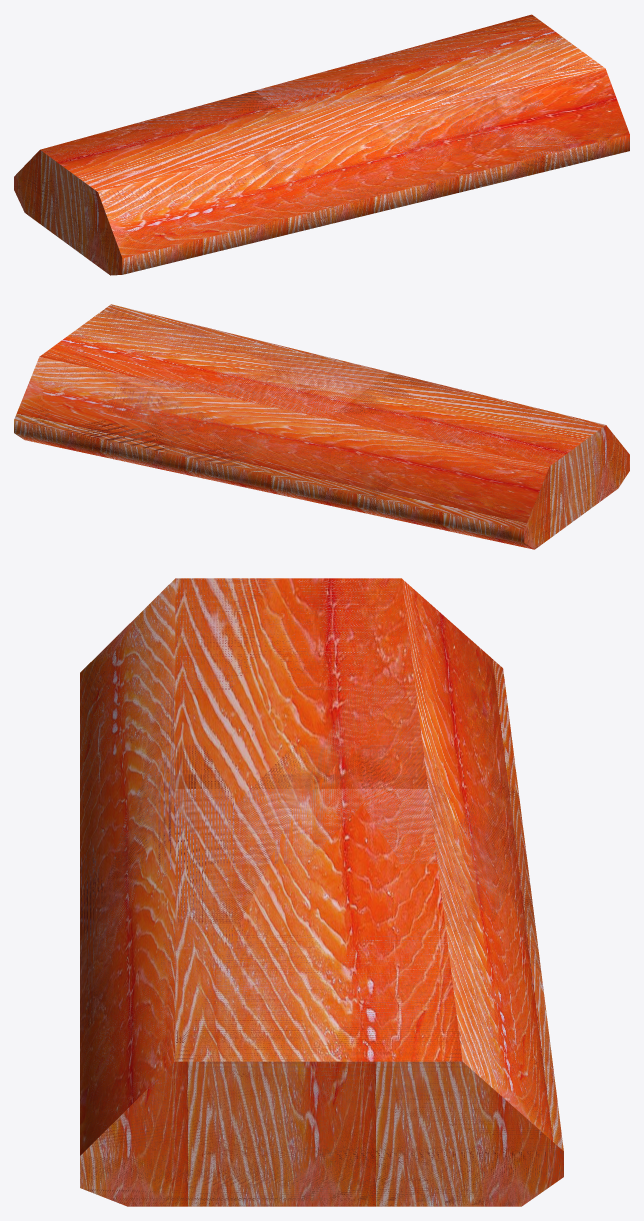
Rendered from salmon.dae.
The picture shows the model from 3 angles, top to bottom: view 1: azimuth 30°, elevation 25°; view 2: azimuth 150°, elevation 25°; view 3: azimuth 270°, elevation 25°; orthographic projection. The views are drawn at different scales.
Visible parts, largest first — view 1: Component_50; view 2: Component_50; view 3: Component_50.
Boxes of the visible parts, bbox=[...] form: Component_50: bbox=[14, 14, 629, 275]; Component_50: bbox=[14, 304, 629, 549]; Component_50: bbox=[80, 578, 563, 1206].
Bounding box in the file's own units: 10.09 × 4.27 × 1.41.
Materials: 2 (2 with a texture image).
